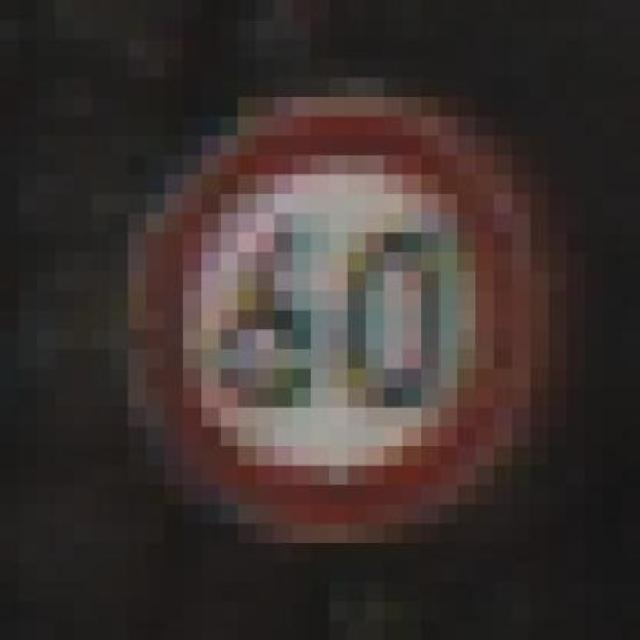forb_speed_over_60: (148, 105, 523, 533)
